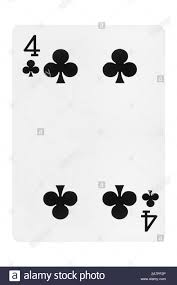four of clubs: (12, 24, 166, 241)
